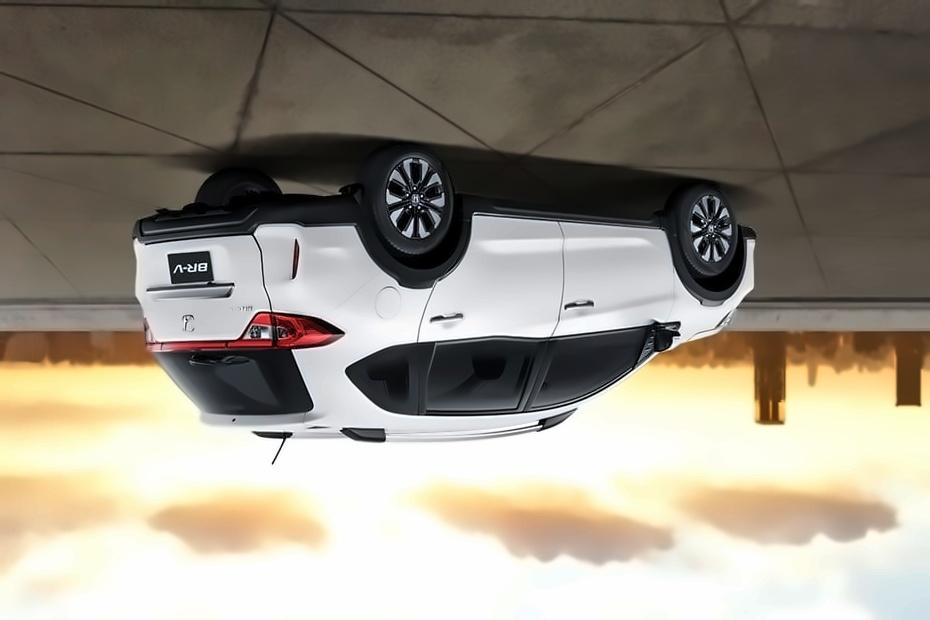Fender - -F-L-: (669, 236, 757, 363)
Fender - -R-L-: (286, 262, 435, 448)
Passenger-s door - -F-L-: (519, 207, 677, 447)
Passenger-s door - -R-L-: (399, 198, 571, 447)
Rear bumper: (121, 192, 375, 280)
Rear light - -L-: (226, 308, 347, 349)
Side bumper - -L-: (462, 189, 681, 262)
Side mirror - -L-: (643, 318, 686, 359)
